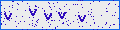v: (28, 8, 38, 17), (3, 12, 13, 21), (77, 14, 86, 23), (43, 13, 53, 21), (58, 11, 66, 20)
